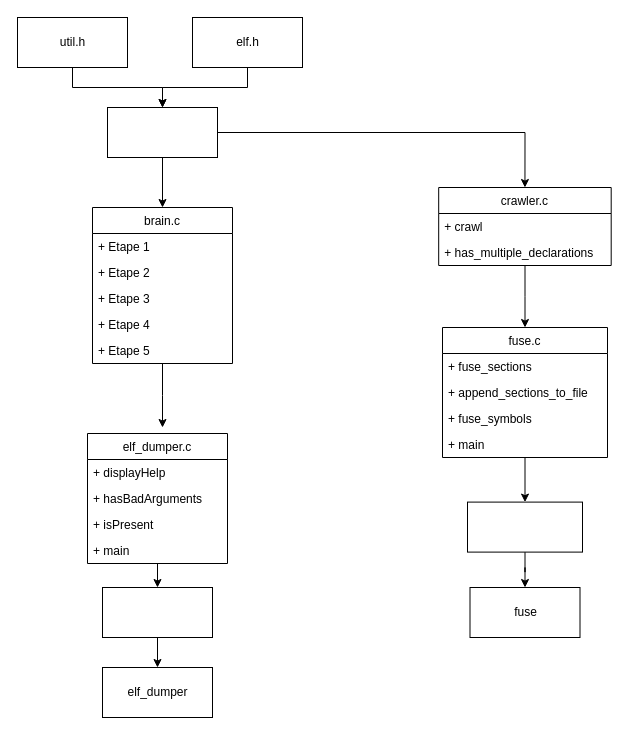
Image size: 629x735. Some labels were removed from this diagram. Each missing label, with the centre of its shape:
brain.h: [162,132]
elf_dumper.o: [157,612]
fuse.o: [524,526]
